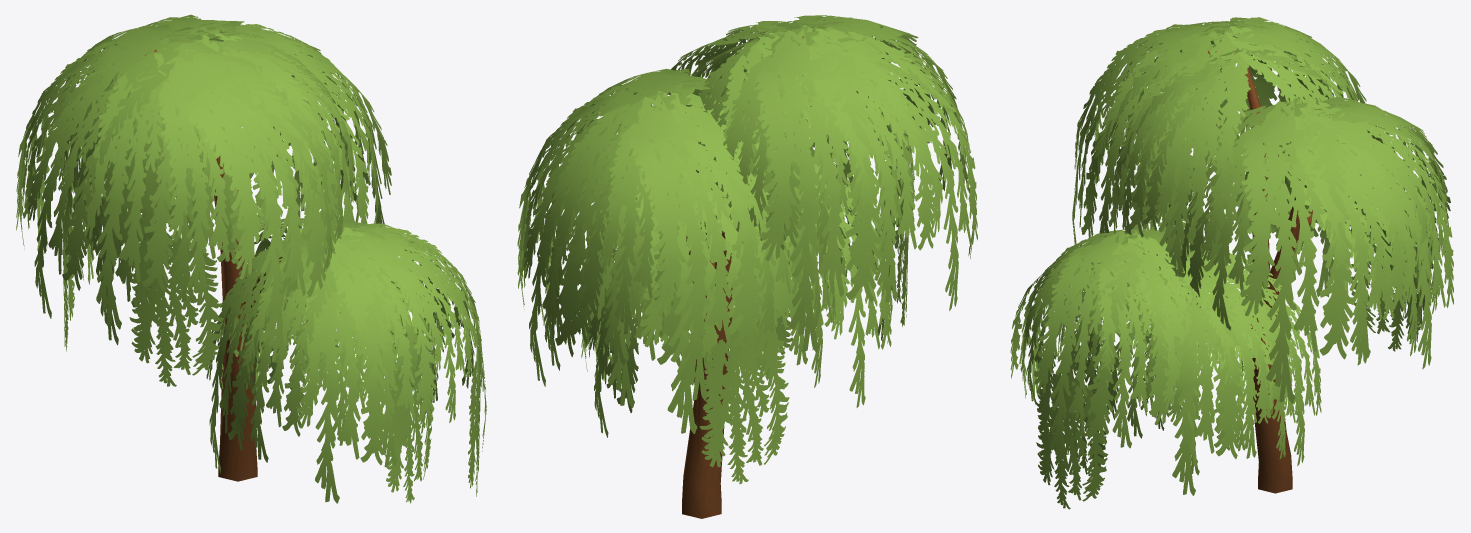
File: STWillow3.glb
3 renders of one model, left to right at view 1: azimuth 30°, elevation 25°; view 2: azimuth 150°, elevation 25°; view 3: azimuth 270°, elevation 25°, orthographic. The views are drawn at different scales.
Visible parts, largest first — view 1: STWillow3_Leaves, STWillow3_Trunk; view 2: STWillow3_Leaves, STWillow3_Trunk; view 3: STWillow3_Leaves, STWillow3_Trunk.
Part boxes in pixels (x1=…): STWillow3_Leaves: x1=16, y1=14, x2=486, y2=503; STWillow3_Trunk: x1=145, y1=49, x2=282, y2=481; STWillow3_Leaves: x1=517, y1=15, x2=977, y2=484; STWillow3_Trunk: x1=682, y1=36, x2=804, y2=518; STWillow3_Leaves: x1=1010, y1=17, x2=1453, y2=509; STWillow3_Trunk: x1=1143, y1=50, x2=1373, y2=493.
Bounding box in the file's own units: 14.1 × 16.96 × 16.41.
2 materials, 2 textured.
